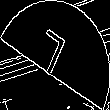L_SW: (35, 25, 75, 85)
